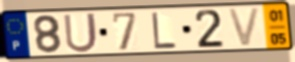2: (194, 8, 227, 50)
7: (110, 11, 139, 52)
8: (32, 13, 63, 55)
L: (150, 11, 178, 50)
U: (62, 11, 100, 55)
V: (225, 6, 263, 49)
